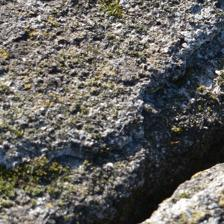Crack: (46, 63, 177, 155)
